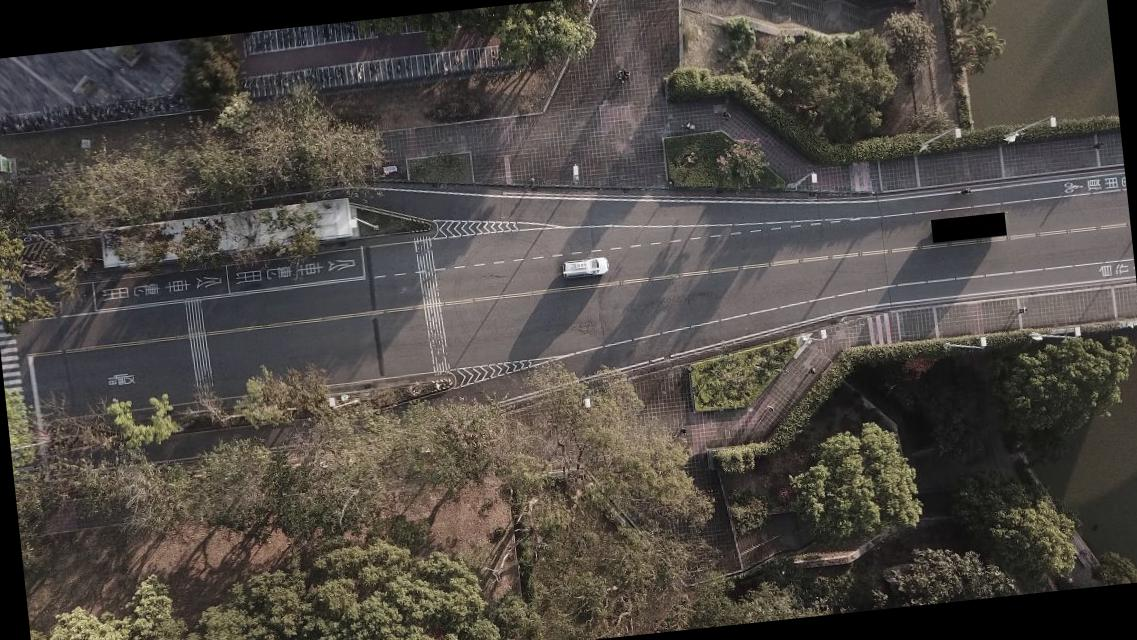vehicle: (560, 255, 611, 278)
